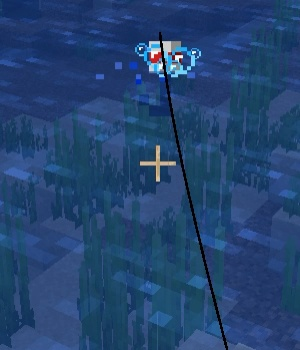up: (142, 34, 182, 117)
